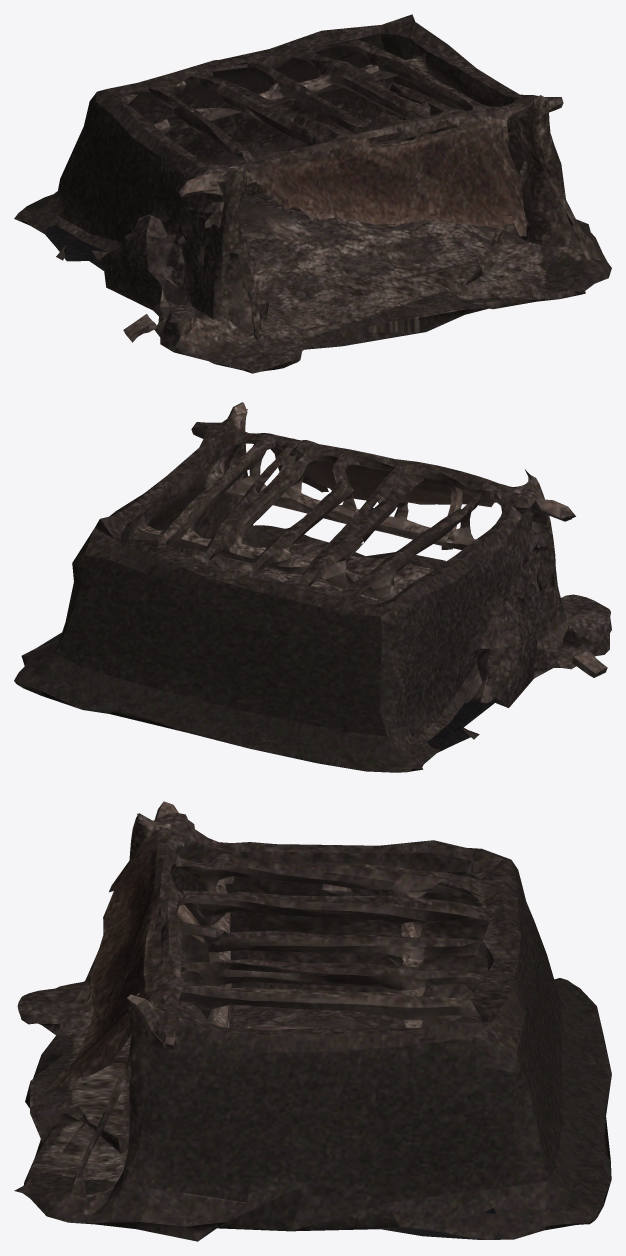
The model's file is b3-shelter-pixelated.glb.
The picture shows the model from 3 angles, top to bottom: view 1: azimuth 30°, elevation 25°; view 2: azimuth 150°, elevation 25°; view 3: azimuth 270°, elevation 25°; orthographic projection. The views are drawn at different scales.
Visible parts, largest first — view 1: b3-shelter.glb; view 2: b3-shelter.glb; view 3: b3-shelter.glb.
Part boxes in pixels (box(x1,y1,x2,y2)): b3-shelter.glb: box(14, 14, 611, 373); b3-shelter.glb: box(14, 402, 611, 772); b3-shelter.glb: box(14, 801, 611, 1241).
Bounding box in the file's own units: 1.87 × 0.6509 × 1.68.
1 material, 1 textured.
